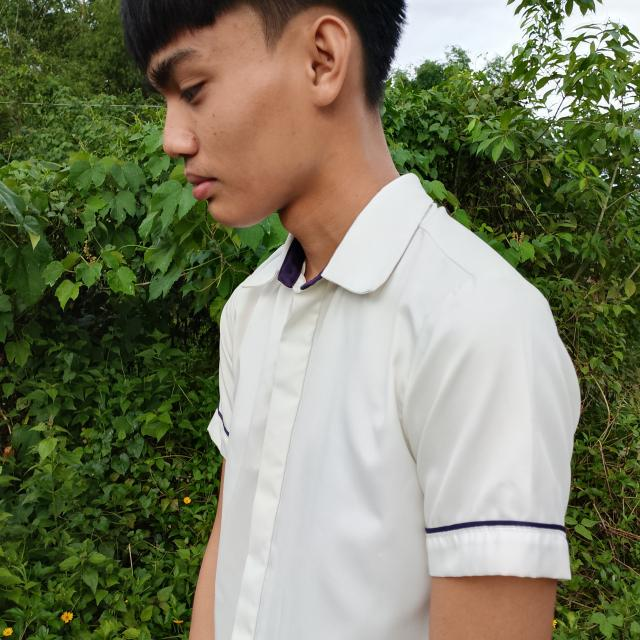education_male_uniform: (165, 170, 604, 640), (346, 284, 612, 600), (320, 179, 558, 395), (180, 276, 374, 522), (186, 215, 426, 362)
